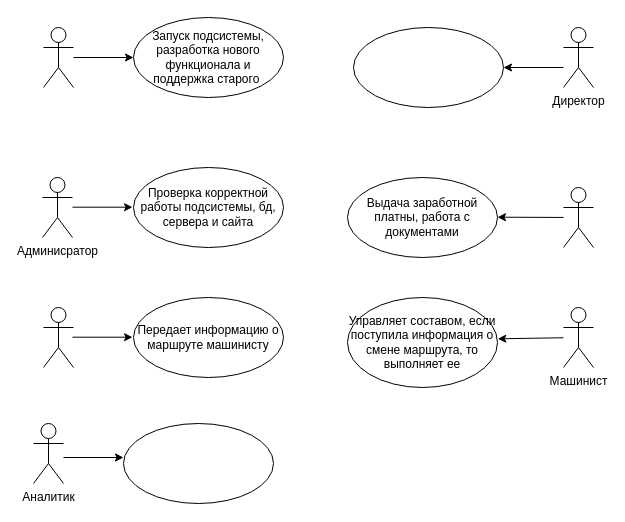
Image size: 625x522. Some labels were removed from this diagram. The centre of each missing label's shape, as x and y in pixels:
Бухгалтер: point (578, 217)
Диспетчер: point (58, 337)
Принятия окончательных решений в сложных вопросах, управление: point (428, 67)
Программист: point (58, 57)
Производит улучшения маршрутов составов: point (198, 463)
